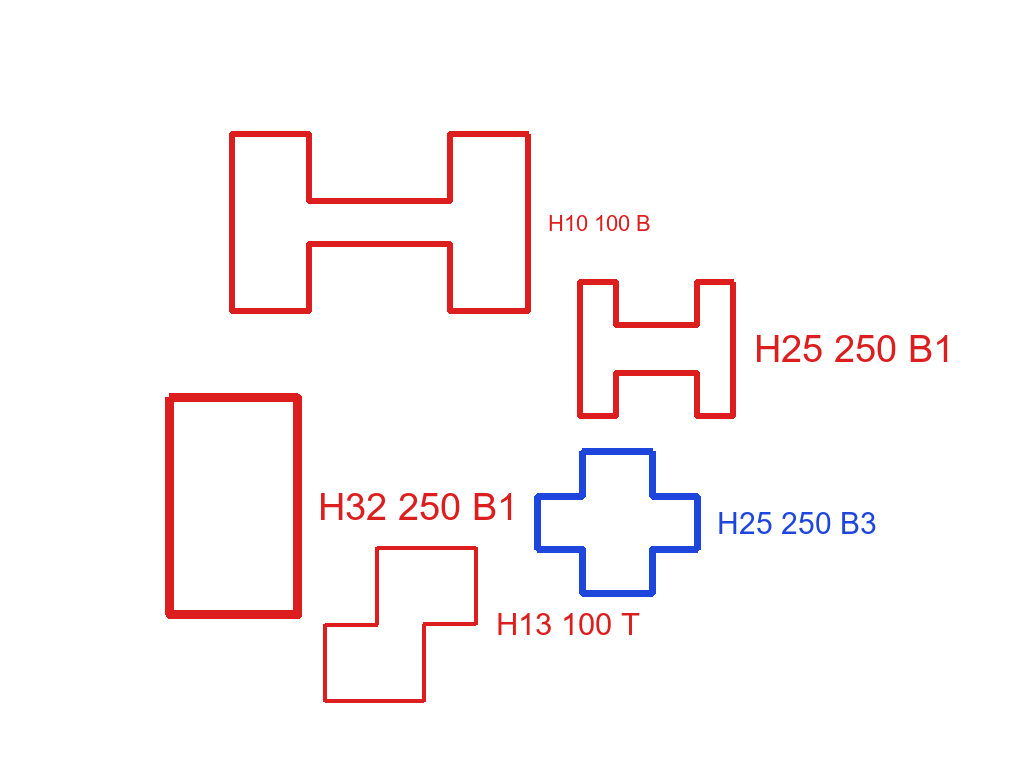shape: (226, 129, 533, 316), (163, 391, 304, 621), (532, 446, 703, 599), (321, 543, 480, 706), (574, 277, 739, 420)
text: (752, 333, 956, 364), (316, 491, 520, 522), (715, 510, 879, 536), (494, 611, 642, 637), (546, 213, 653, 233)
